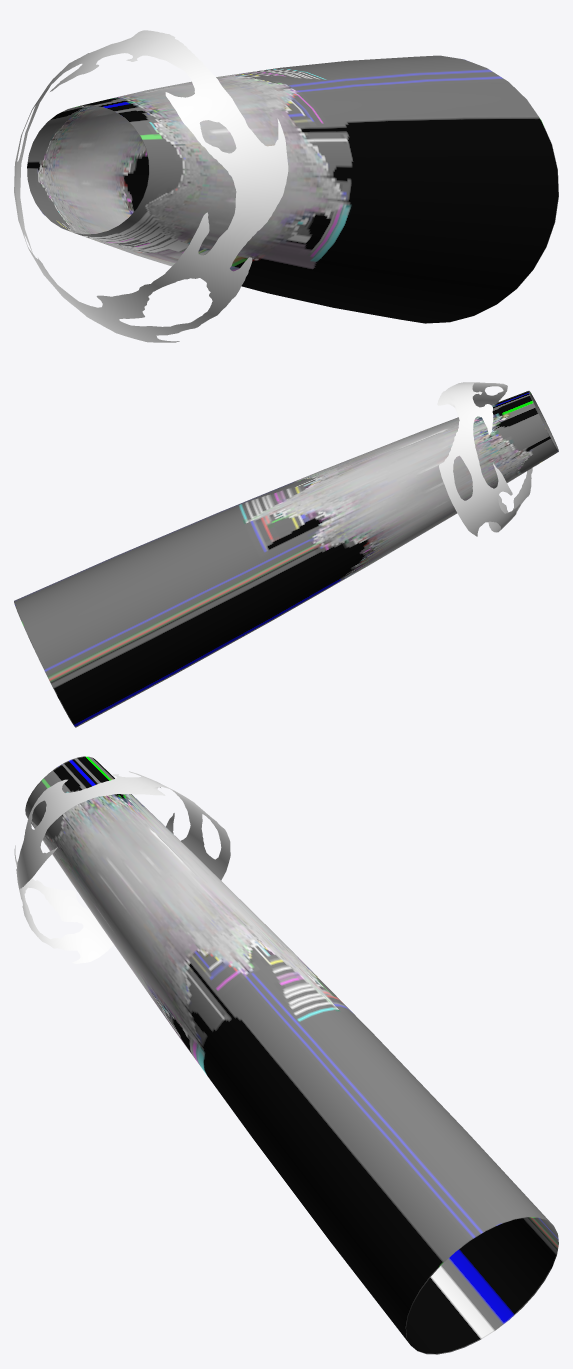
Rendered from fx_cookie0030_snowking_front_skill01.fbx.
3 views of the same model, one above another, from view 1: azimuth 30°, elevation 25°; view 2: azimuth 150°, elevation 25°; view 3: azimuth 270°, elevation 25° (orthographic). The views are drawn at different scales.
Visible parts, largest first — view 1: Ground_Shockwave-Add2 (1), Ground_Shockwave-Add2 (2); view 2: Ground_Shockwave-Add2 (1), Ground_Shockwave-Add2 (2); view 3: Ground_Shockwave-Add2 (1), Ground_Shockwave-Add2 (2).
Part boxes in pixels (<box>): Ground_Shockwave-Add2 (1): <box>27,55,558,323</box>; Ground_Shockwave-Add2 (2): <box>14,30,288,342</box>; Ground_Shockwave-Add2 (1): <box>14,391,558,727</box>; Ground_Shockwave-Add2 (2): <box>437,382,532,536</box>; Ground_Shockwave-Add2 (1): <box>25,756,558,1354</box>; Ground_Shockwave-Add2 (2): <box>14,771,230,963</box>.
Size of the model in its own units: 1529 by 1087 by 1351.
Materials: 2 (2 with a texture image).
